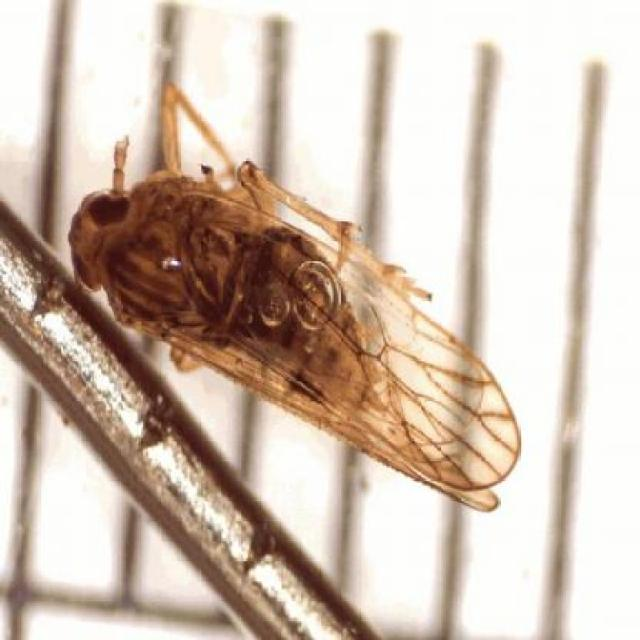brown-planthopper: (67, 161, 522, 515)
